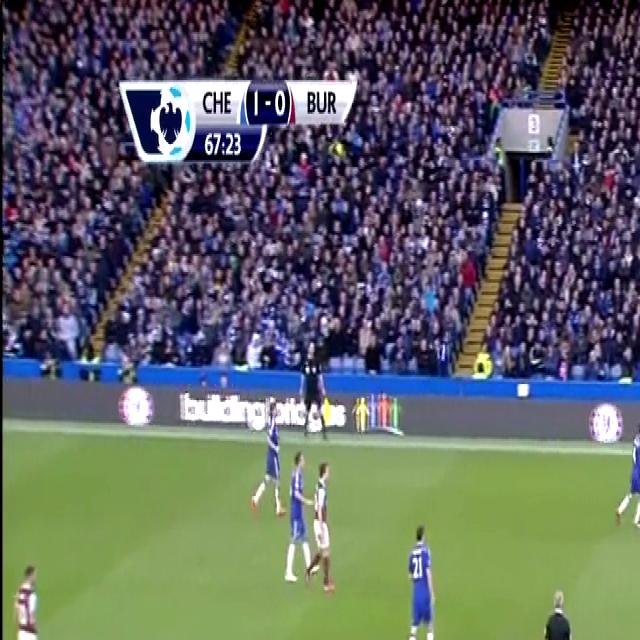referee: (295, 333, 331, 440), (536, 578, 579, 640)
soccer-player: (399, 508, 444, 640), (305, 452, 343, 604), (279, 448, 315, 595), (251, 400, 291, 523), (608, 412, 640, 537), (6, 553, 48, 640)
